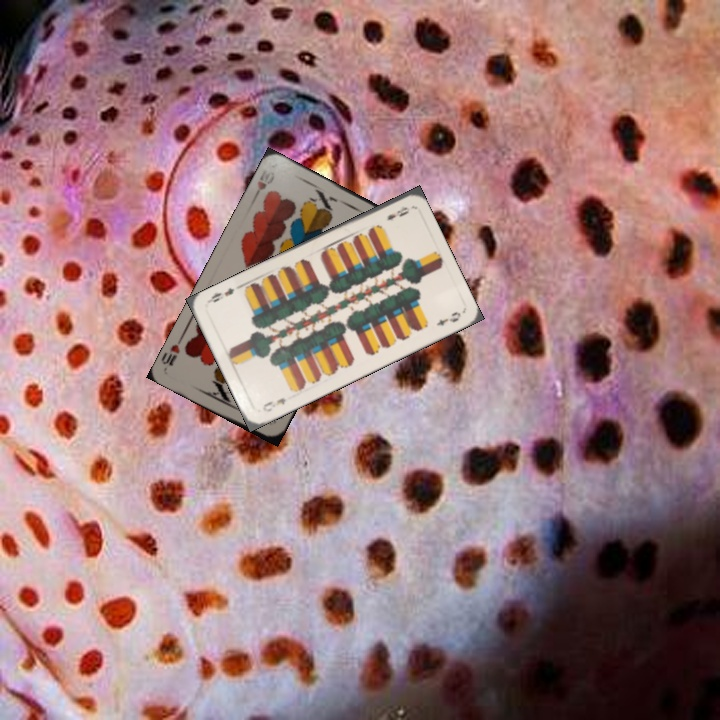E9: (259, 394, 288, 415), (383, 202, 411, 223)
H10: (249, 166, 277, 203)
